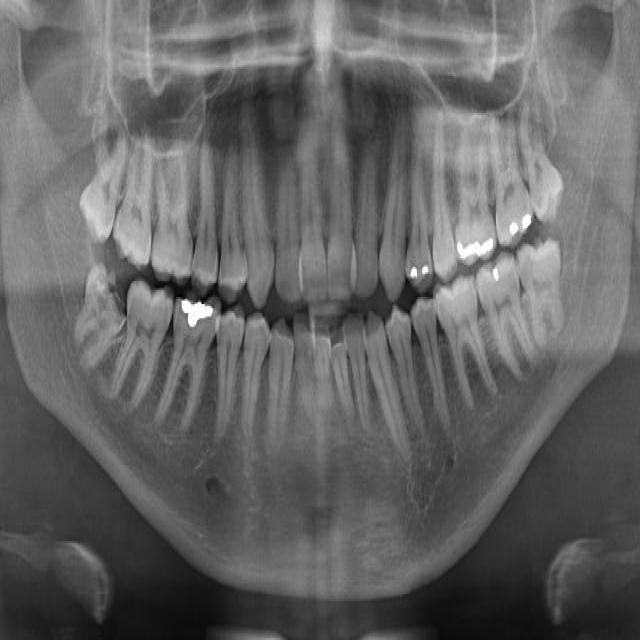dentin-curugu: (82, 258, 131, 336)
dolgu: (459, 208, 499, 266), (178, 284, 222, 334), (501, 204, 536, 244), (476, 254, 508, 290), (408, 250, 434, 294)
